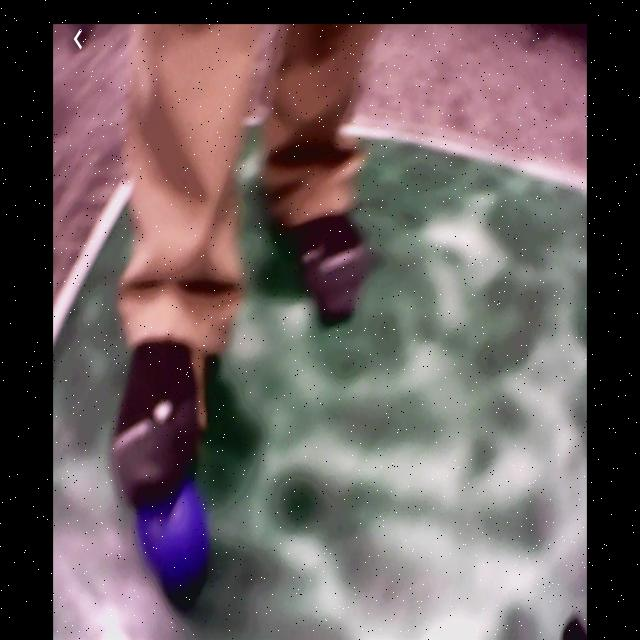ball: (137, 473, 208, 584)
